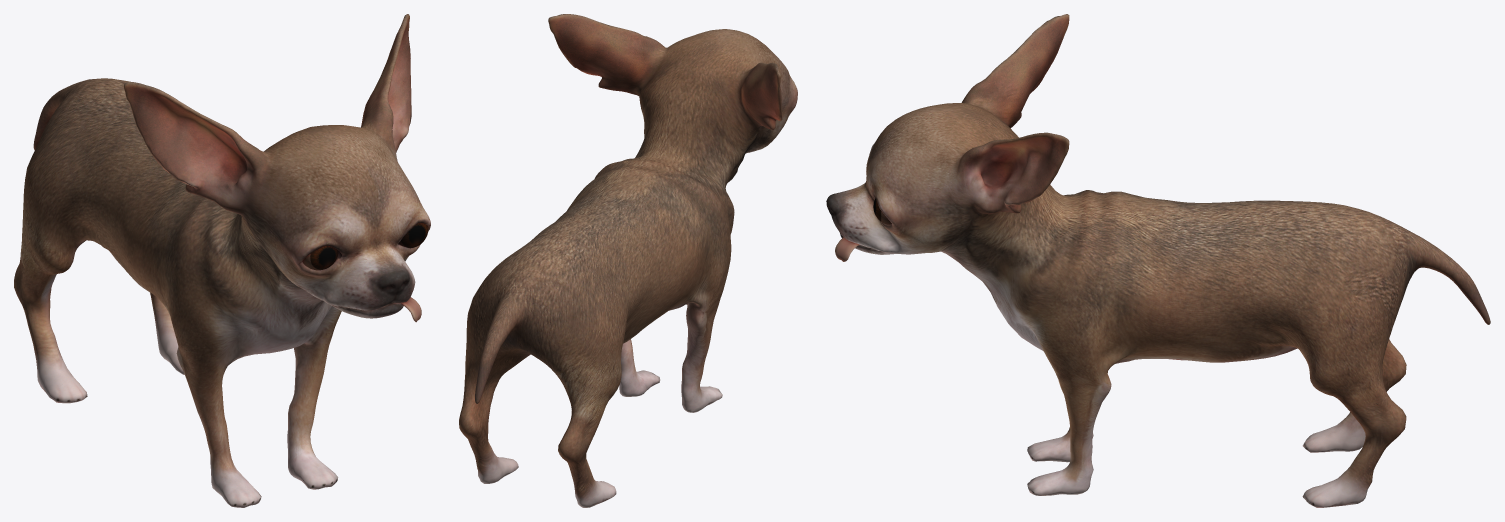
File: Dog.glb
3 renders of one model, left to right at view 1: azimuth 30°, elevation 25°; view 2: azimuth 150°, elevation 25°; view 3: azimuth 270°, elevation 25°, orthographic. The views are drawn at different scales.
Visible parts, largest first — view 1: Object004j, Object001_Material #40_0; view 2: Object004j; view 3: Object004j.
Part boxes in pixels (x1,y1,x2,y2): Object004j: [14, 14, 430, 507]; Object001_Material #40_0: [302, 223, 428, 270]; Object004j: [459, 14, 797, 507]; Object004j: [826, 14, 1490, 507].
Bounding box in the file's own units: 0.3335 × 0.4894 × 0.7357.
Materials: 1 (1 with a texture image).
